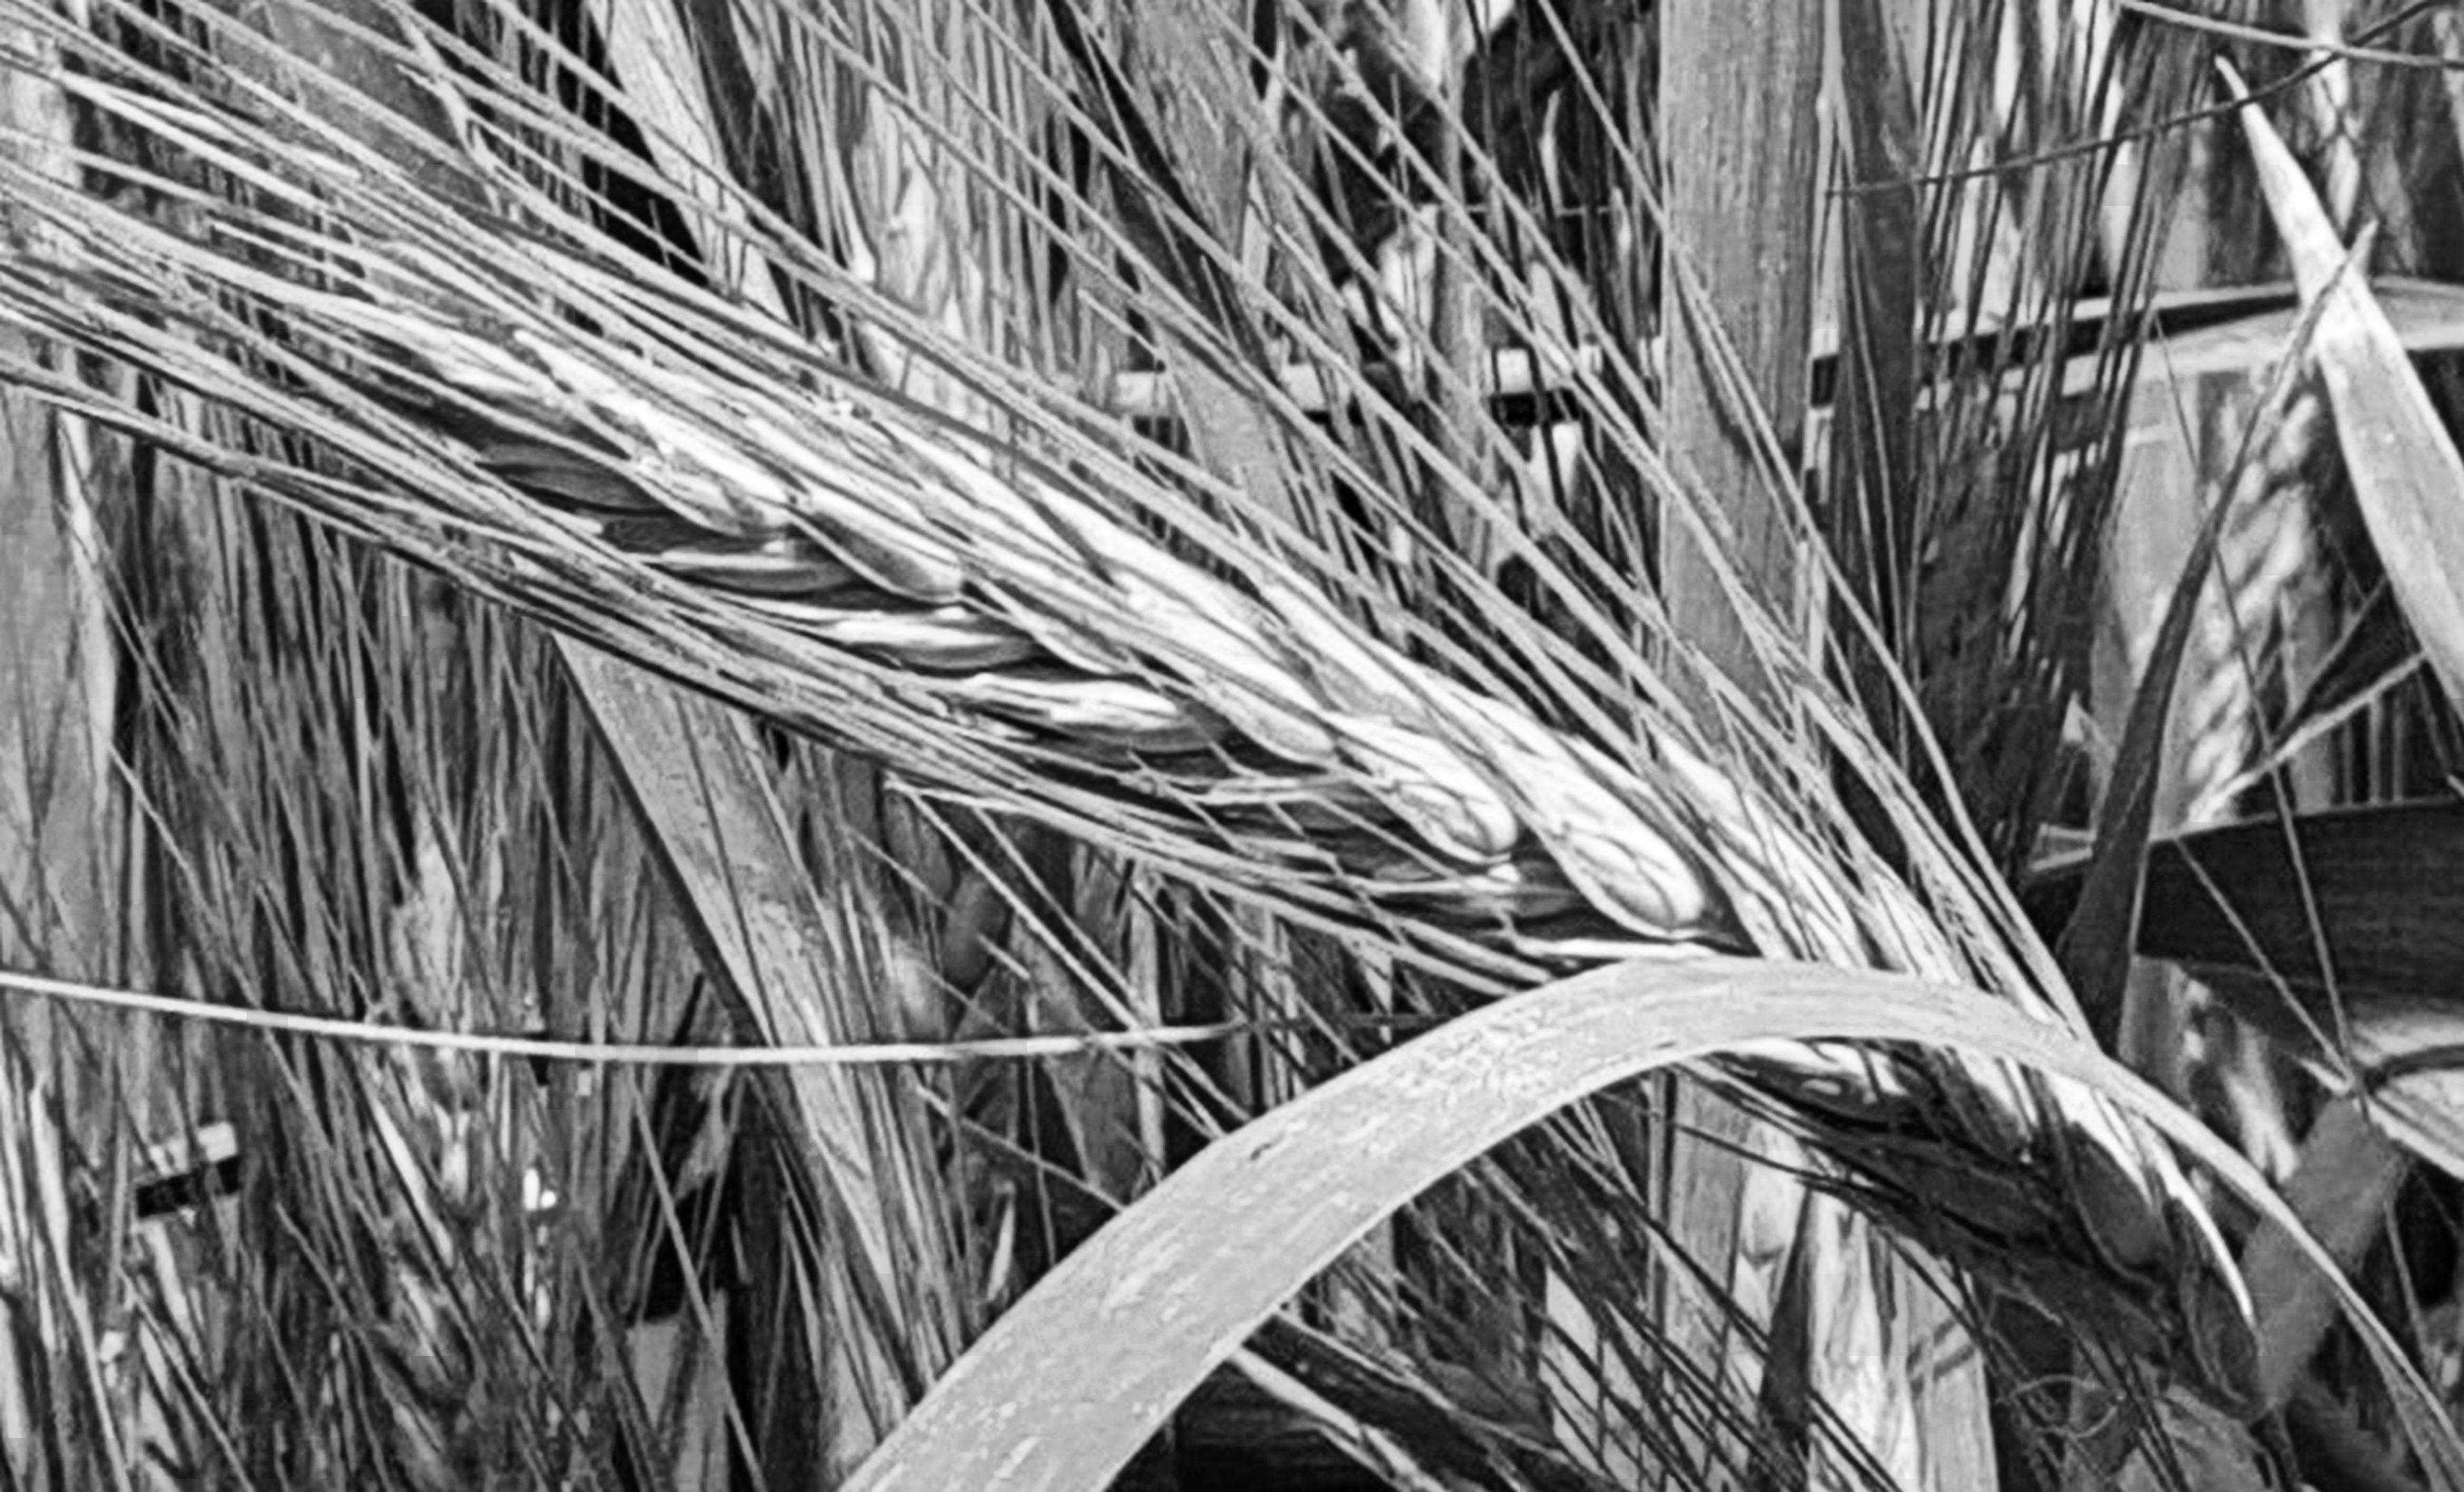Healthy Wheat: (315, 260, 2152, 1210)
